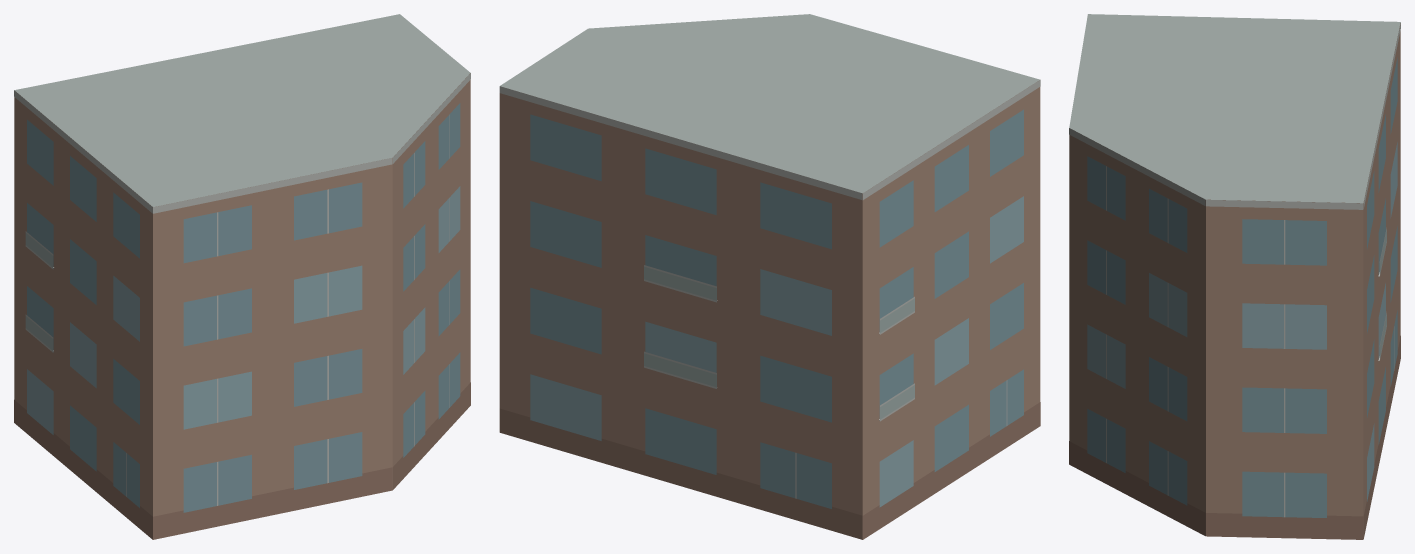
Rendered from residential-ccd9920a-5f58-4533-a87f-9c7290cf68c7.glb.
3 views of the same model, side by side, from view 1: azimuth 30°, elevation 25°; view 2: azimuth 150°, elevation 25°; view 3: azimuth 270°, elevation 25° (orthographic). The views are drawn at different scales.
Parts seen in each view (by area): view 1: residential-ccd9920a-5f58-4533-a87f-9c7290cf68c7.tmp; view 2: residential-ccd9920a-5f58-4533-a87f-9c7290cf68c7.tmp; view 3: residential-ccd9920a-5f58-4533-a87f-9c7290cf68c7.tmp.
Boxes of the visible parts, x1,y1,x2,y2 form: residential-ccd9920a-5f58-4533-a87f-9c7290cf68c7.tmp: (14,14,470,539); residential-ccd9920a-5f58-4533-a87f-9c7290cf68c7.tmp: (499,14,1040,539); residential-ccd9920a-5f58-4533-a87f-9c7290cf68c7.tmp: (1069,14,1400,539).
Bounding box in the file's own units: 14.71 × 12.2 × 10.9.
